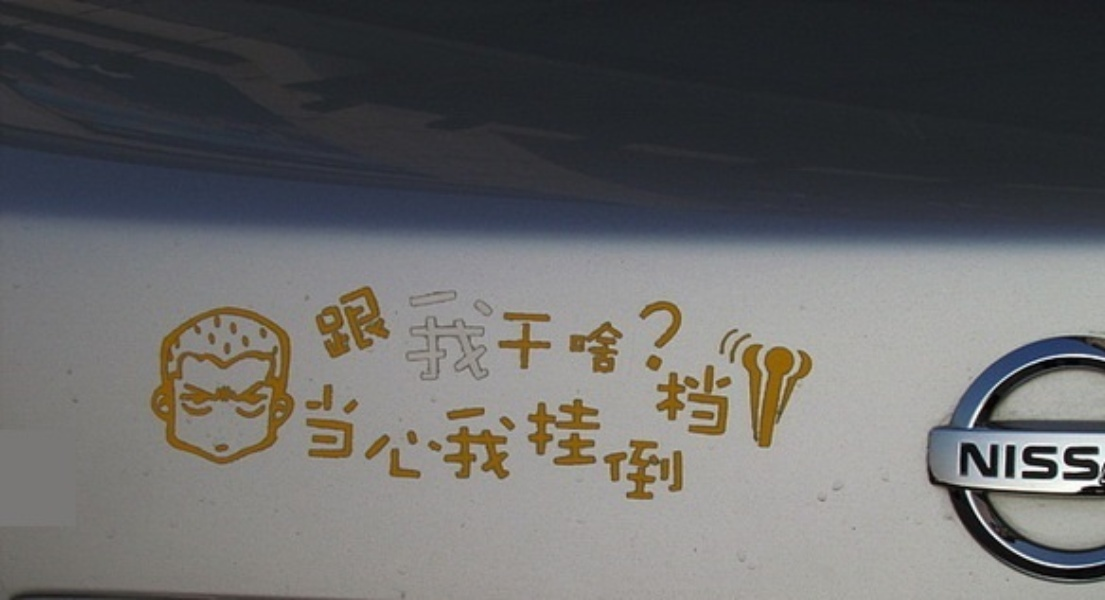text: (321, 286, 336, 387), (337, 286, 352, 387), (353, 286, 368, 387), (369, 286, 384, 387), (385, 286, 400, 387), (401, 286, 416, 387), (417, 286, 432, 387), (433, 286, 448, 387), (449, 286, 464, 387), (465, 286, 480, 387), (481, 286, 496, 387), (497, 286, 512, 387), (513, 286, 528, 387), (529, 286, 544, 387), (545, 286, 560, 387), (561, 286, 576, 387), (577, 286, 592, 387), (593, 286, 608, 387), (609, 286, 624, 387), (625, 286, 640, 387), (641, 286, 656, 387), (657, 286, 672, 387), (305, 387, 320, 479), (321, 387, 336, 479), (337, 387, 352, 479), (353, 387, 368, 479), (369, 387, 384, 479), (385, 387, 400, 479), (401, 387, 416, 479), (417, 387, 432, 479), (433, 387, 448, 479), (449, 387, 464, 479), (465, 387, 480, 479), (481, 387, 496, 479), (497, 387, 512, 479), (513, 387, 528, 479), (529, 387, 544, 479), (545, 387, 560, 479), (561, 387, 576, 479), (577, 387, 592, 479), (657, 366, 672, 438), (673, 366, 688, 438), (689, 366, 704, 438), (705, 366, 720, 438), (673, 286, 682, 387), (609, 442, 624, 502), (625, 442, 640, 502), (641, 442, 656, 502), (657, 442, 672, 502), (721, 366, 733, 438), (313, 286, 320, 387), (961, 443, 976, 485), (977, 443, 992, 485), (993, 443, 1008, 485), (1009, 443, 1024, 485), (1025, 443, 1040, 485), (1041, 443, 1056, 485), (1057, 443, 1072, 485), (1073, 443, 1088, 485), (1089, 443, 1102, 485), (673, 442, 682, 502), (299, 387, 304, 479), (593, 387, 598, 479), (604, 442, 608, 502), (956, 443, 960, 485)
